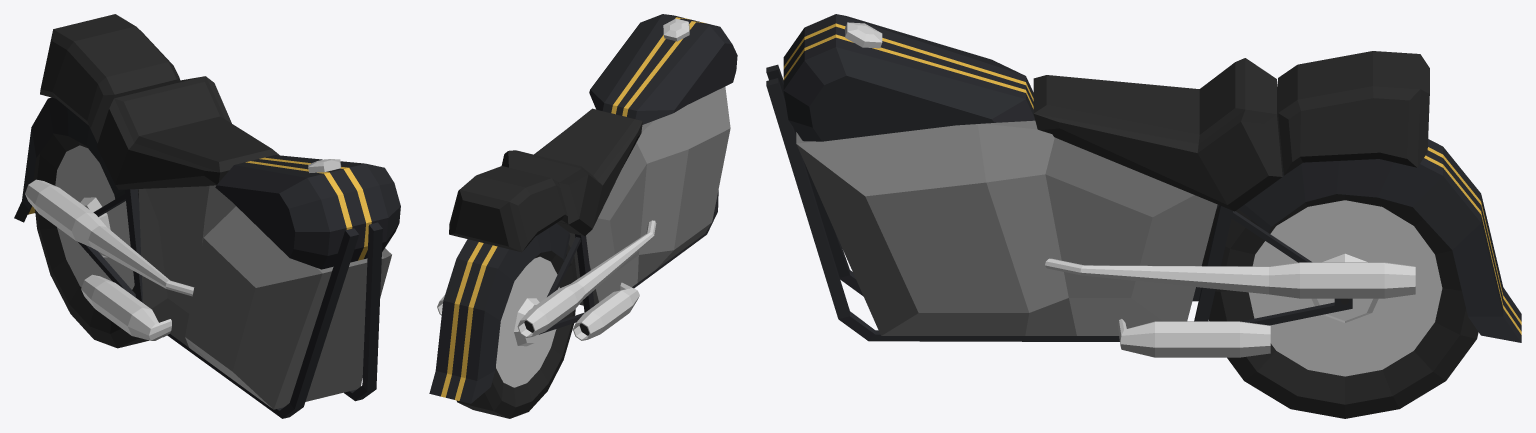
Rendered from Motorcycle_01.fbx.
The picture shows the model from 3 angles, left to right: view 1: azimuth 30°, elevation 25°; view 2: azimuth 150°, elevation 25°; view 3: azimuth 270°, elevation 25°; orthographic projection. The views are drawn at different scales.
Parts seen in each view (by area): view 1: Motorcycle_01; view 2: Motorcycle_01; view 3: Motorcycle_01.
Part boxes in pixels (x1,y1,x2,y2): Motorcycle_01: [14, 14, 400, 418]; Motorcycle_01: [429, 14, 737, 418]; Motorcycle_01: [766, 14, 1521, 418].
Size of the model in its own units: 61.69 by 135 by 244.
